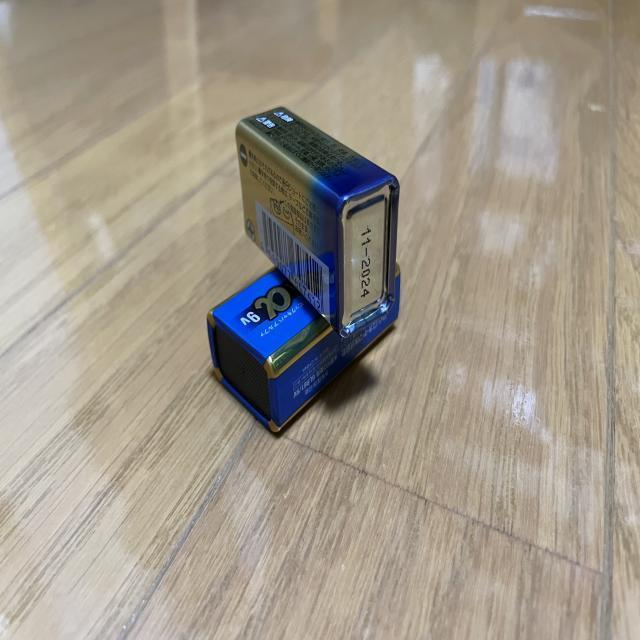9V: (235, 105, 399, 339), (203, 252, 401, 437)
